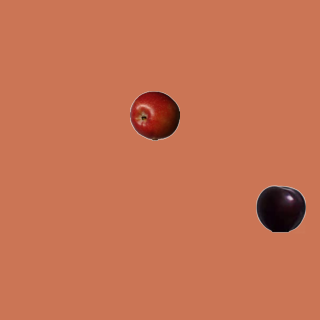Apple Braeburn: (129, 90, 179, 140)
Cherry Wax Black: (255, 183, 305, 233)
